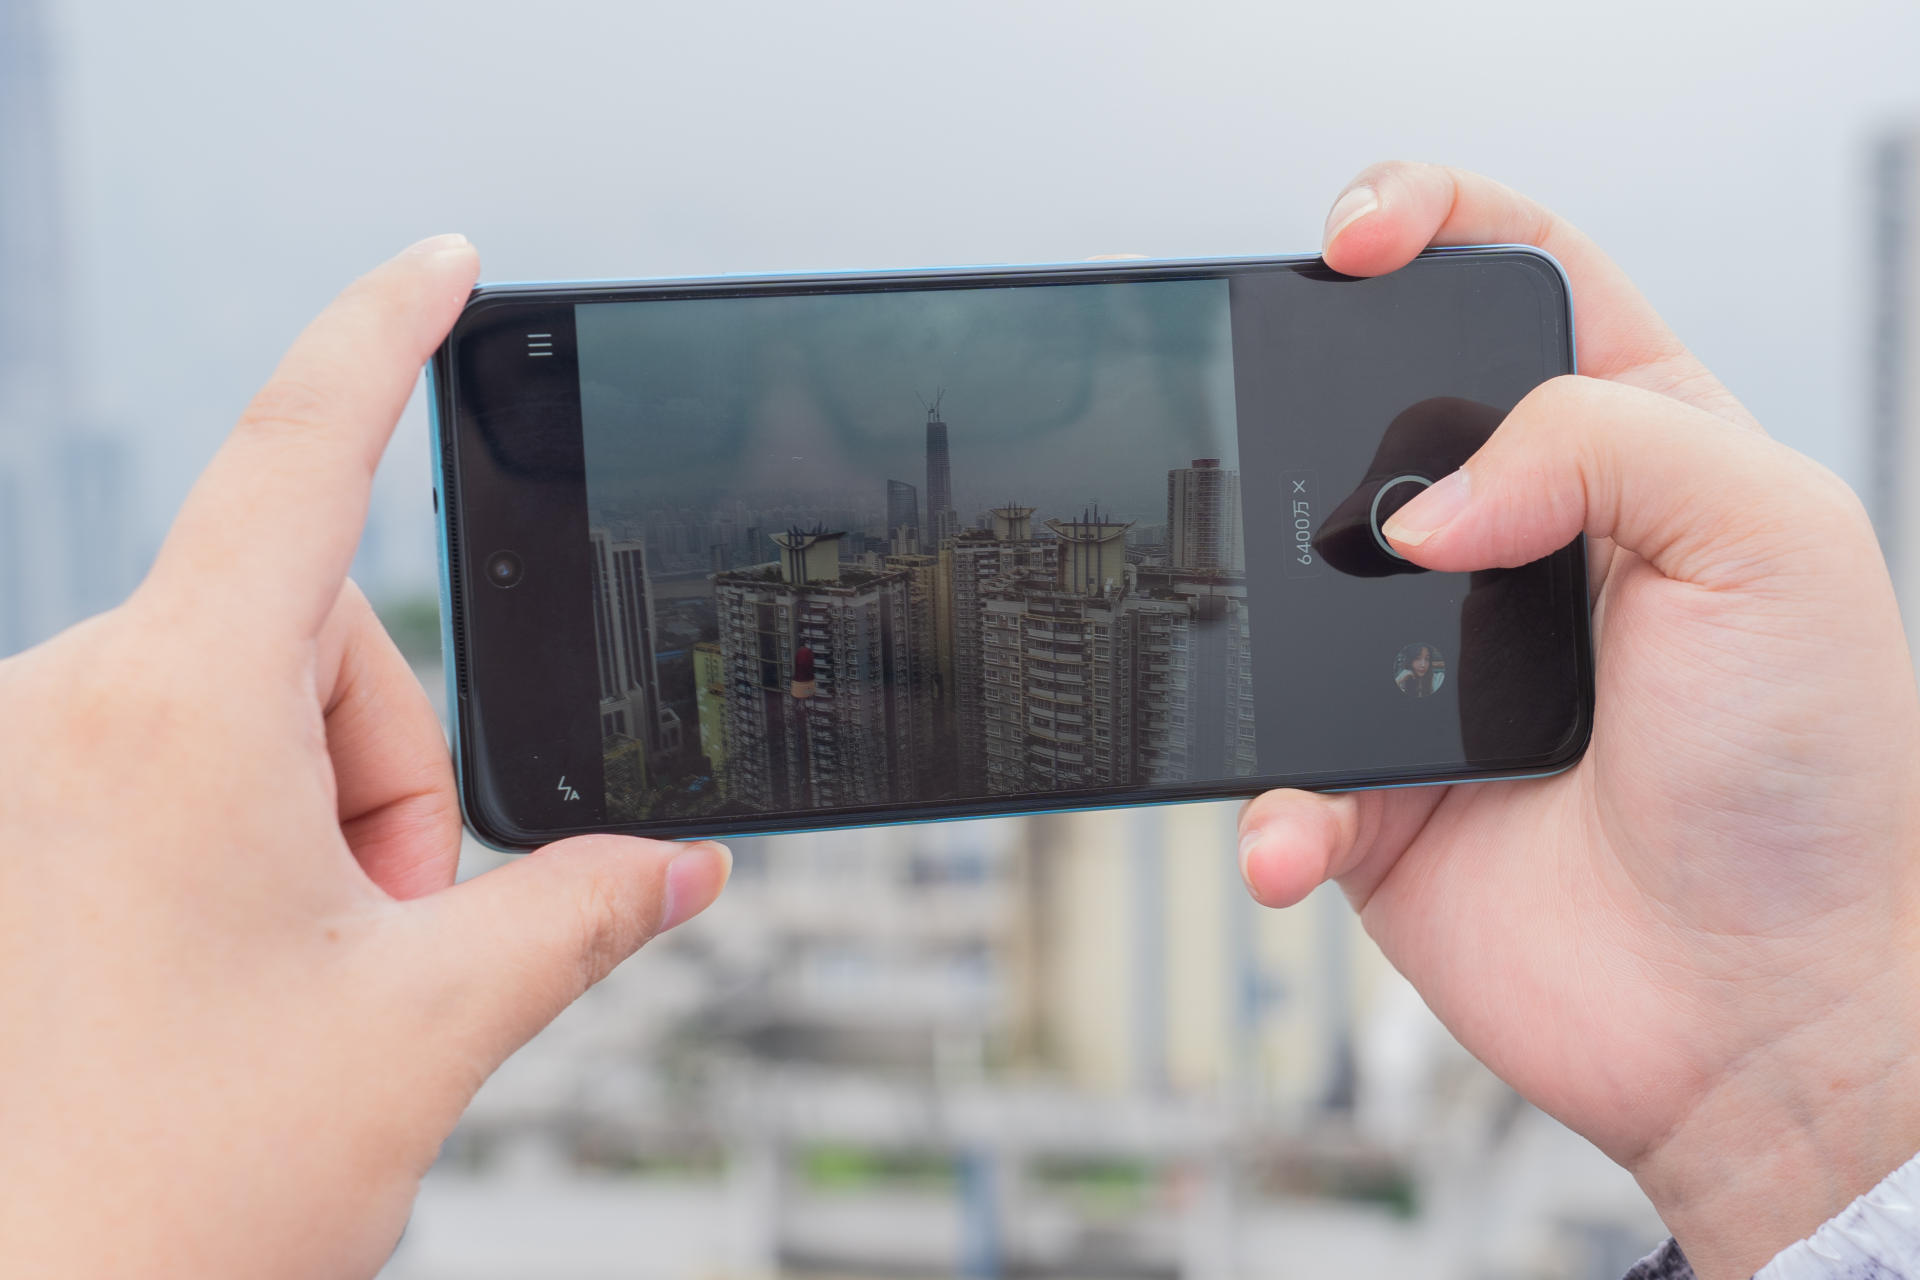taking photos: (14, 146, 1914, 1241)
